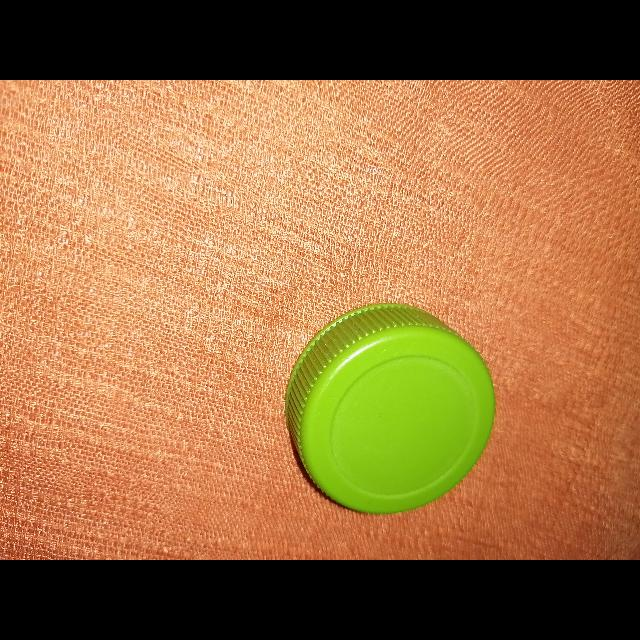plastic_bottle_cap: (284, 304, 496, 514)
